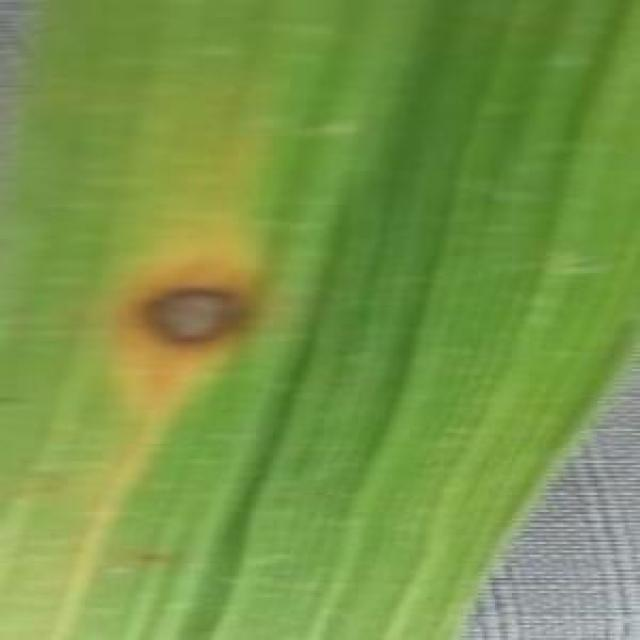brownspots: (136, 271, 248, 348)
